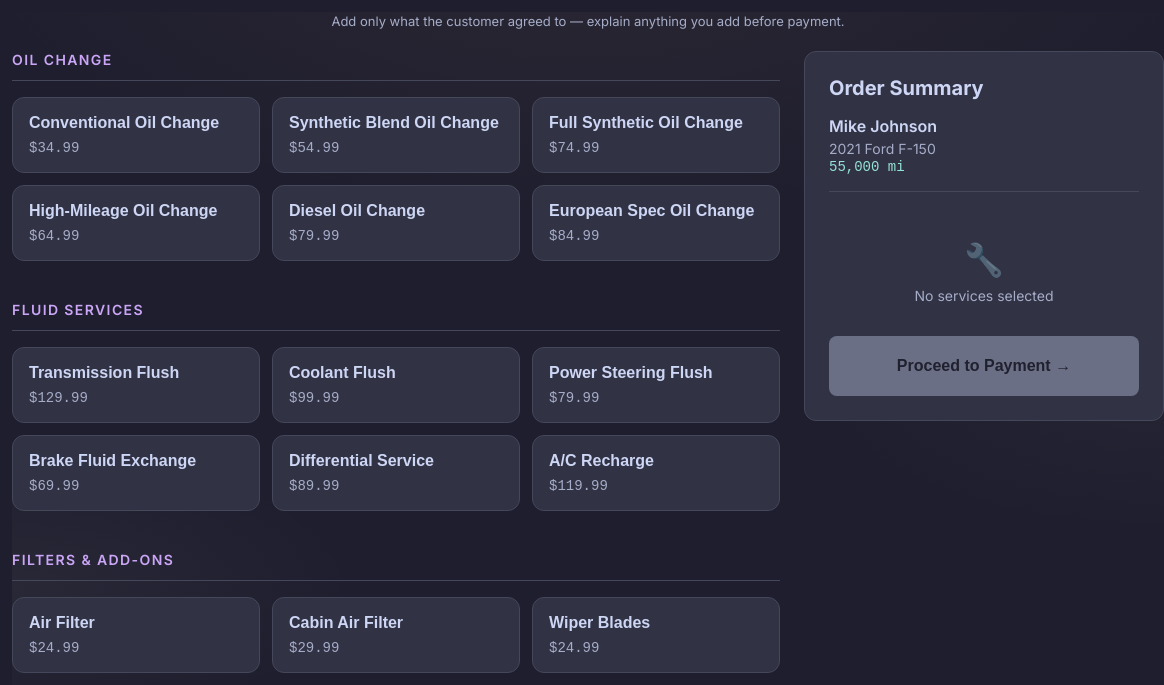
ServicesScreen › selecting a service adds it to the sidebar
The width and height of the screenshot is (1164, 685).
Expected: the text "No services selected" is shown, [914, 287, 1054, 304]
Note: Click a service button
Click the text "Full Synthetic Oil Change" at (646, 123), box [549, 114, 743, 132]
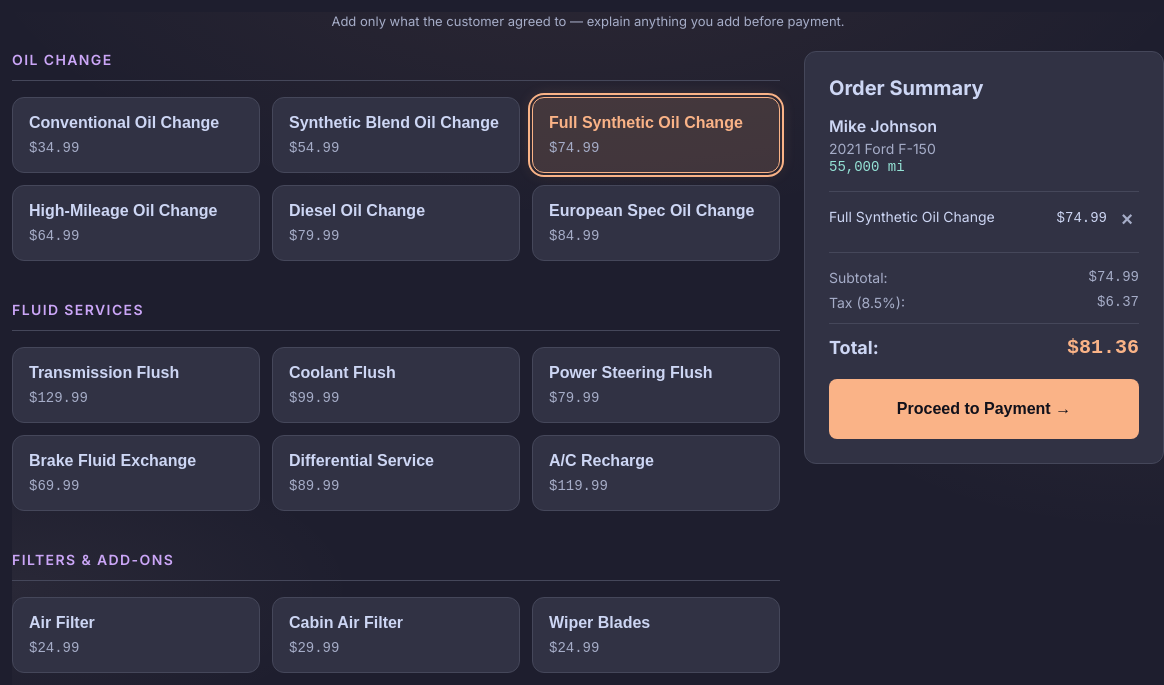
Now the text "Full Synthetic Oil Change" below "55,000" is shown, box [829, 208, 995, 225]
Now the text "No services selected" is gone
